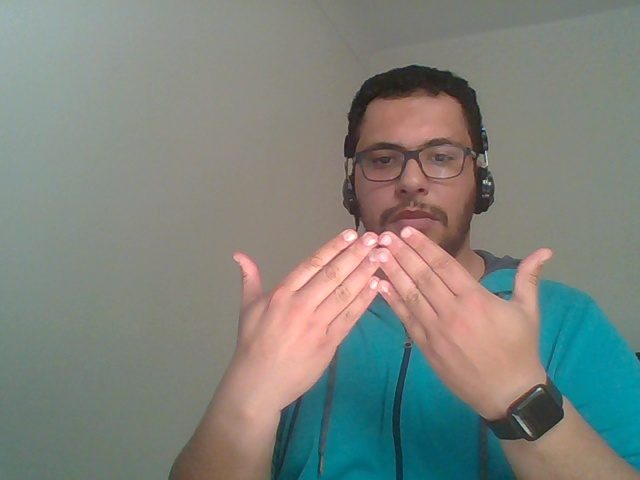thanks: (115, 209, 616, 480)
